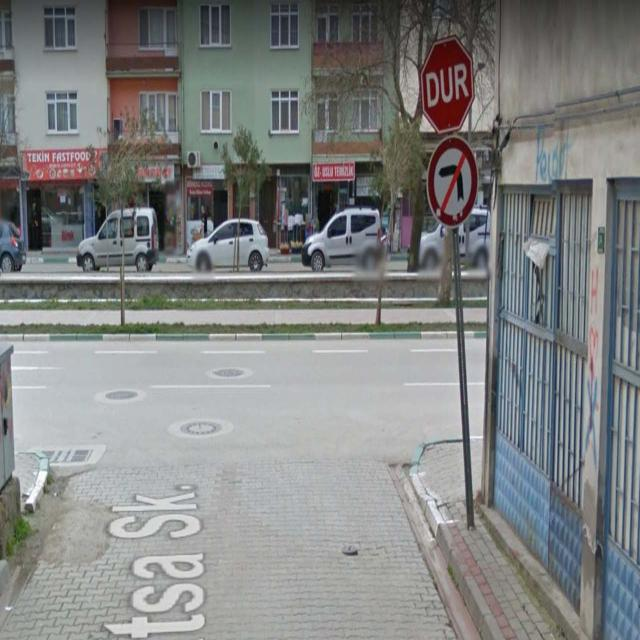dur: (420, 34, 476, 133)
soladonulmez: (426, 136, 480, 229)
